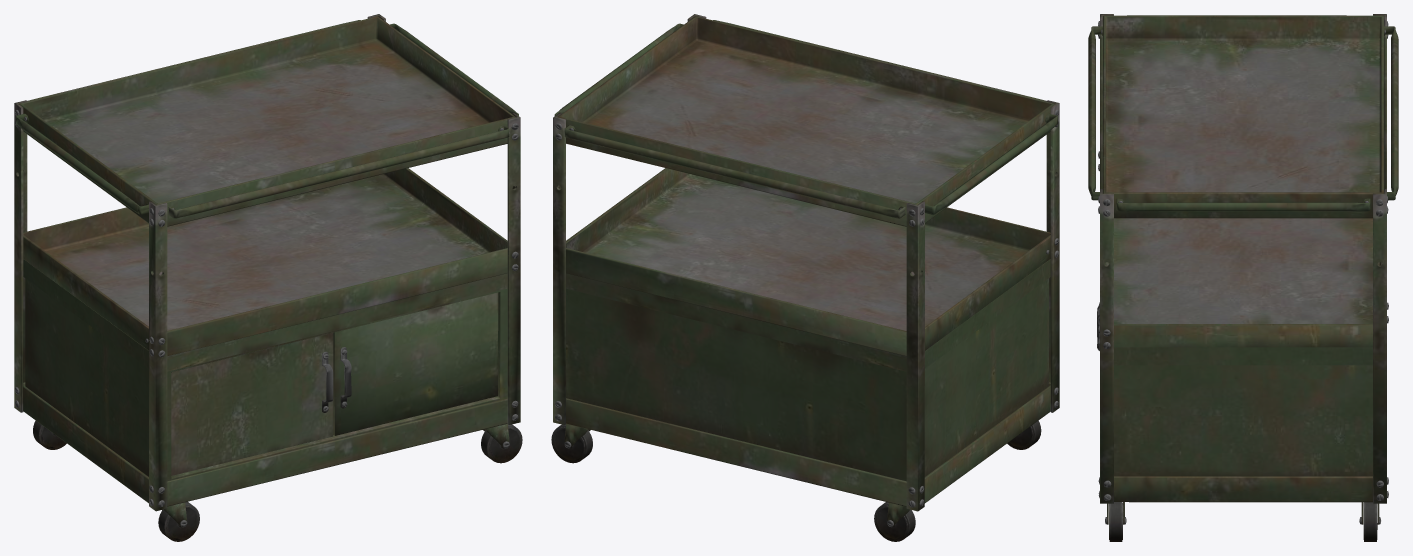
Rendered from industrial_storage_cart.glb.
3 views of the same model, side by side, from view 1: azimuth 30°, elevation 25°; view 2: azimuth 150°, elevation 25°; view 3: azimuth 270°, elevation 25° (orthographic).
Parts seen in each view (by area): view 1: industrial_storage_cart; view 2: industrial_storage_cart; view 3: industrial_storage_cart.
Part boxes in pixels (x1,y1,x2,y2): industrial_storage_cart: [14, 14, 522, 541]; industrial_storage_cart: [551, 14, 1059, 541]; industrial_storage_cart: [1088, 14, 1398, 541].
Bounding box in the file's own units: 1.6 × 1.38 × 1.1.
Materials: 1 (1 with a texture image).
